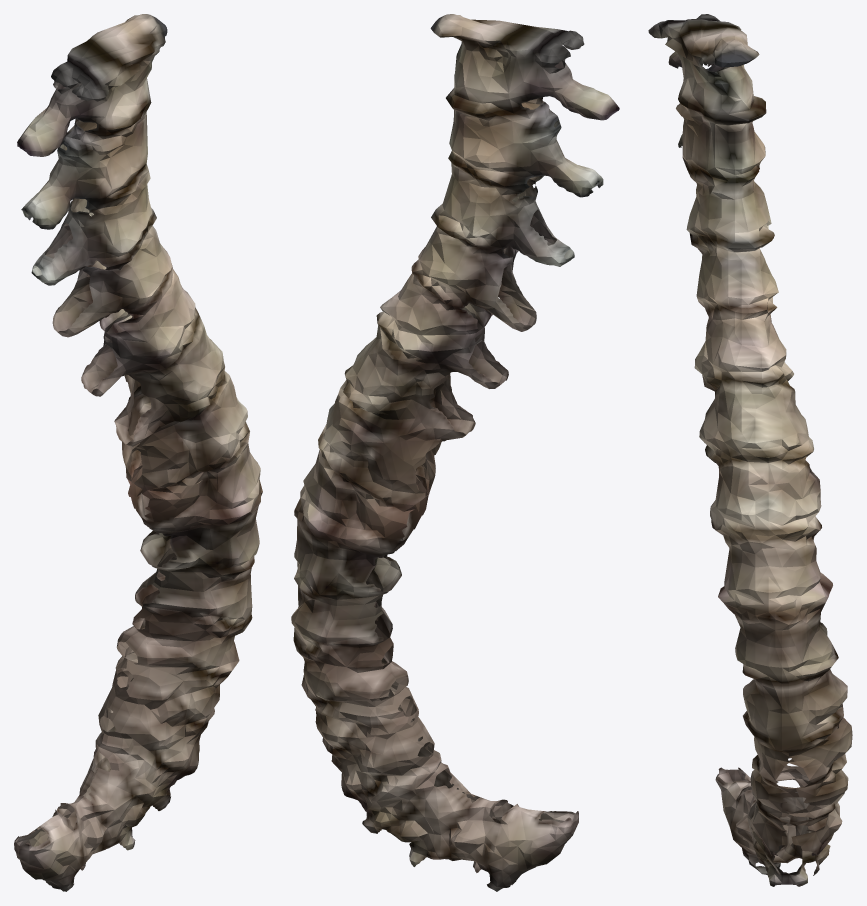
The model's file is bonetail.glb.
3 views of the same model, side by side, from view 1: azimuth 30°, elevation 25°; view 2: azimuth 150°, elevation 25°; view 3: azimuth 270°, elevation 25° (orthographic). The views are drawn at different scales.
Parts seen in each view (by area): view 1: geometry_0; view 2: geometry_0; view 3: geometry_0.
Boxes of the visible parts, bbox=[...] form: geometry_0: bbox=[14, 14, 262, 891]; geometry_0: bbox=[291, 14, 619, 891]; geometry_0: bbox=[648, 14, 852, 886].
Size of the model in its own units: 0.3293 by 0.9658 by 0.2071.
Materials: 1 (1 with a texture image).
